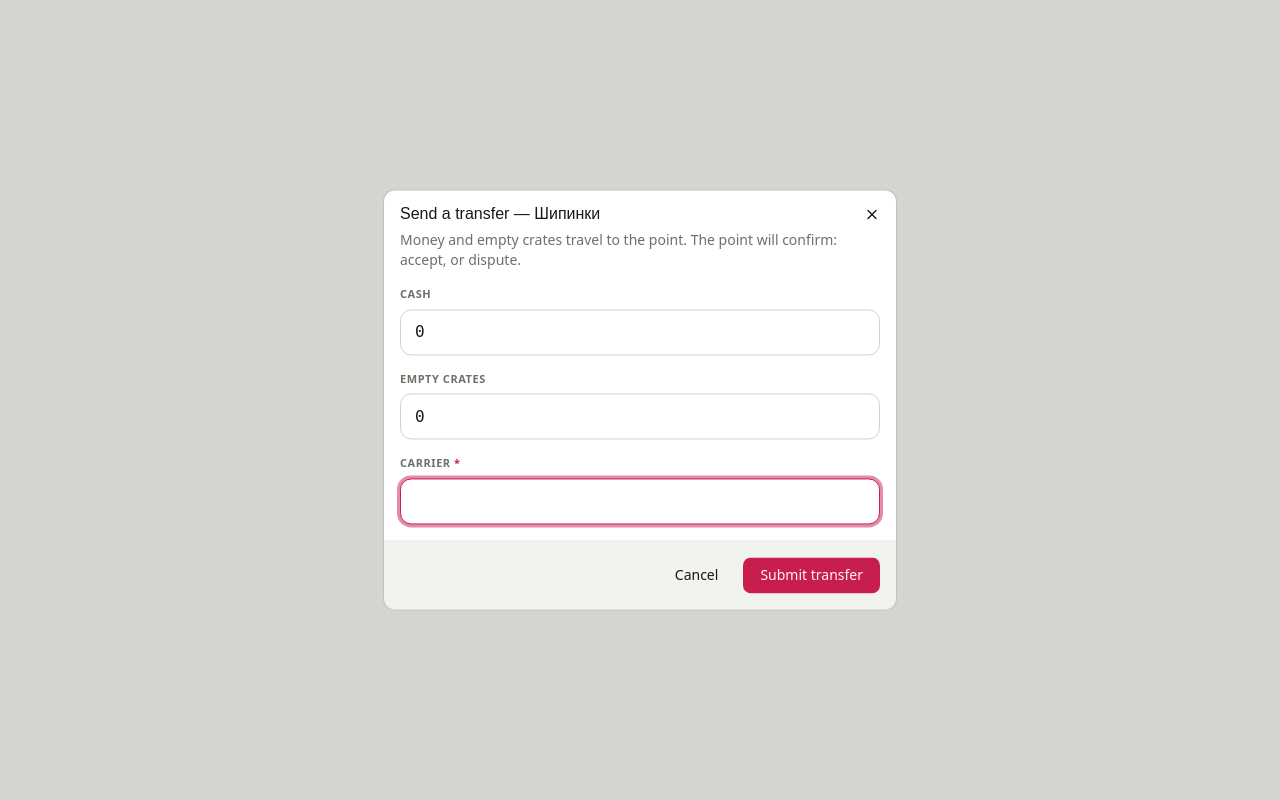
Test: the shared money field (#72) › never holds a space and refuses a half-typed sum with the shared message
The image size is (1280, 800).
Replace the text in the field labelled "Cash" with "980 40" at (640, 332), box [400, 309, 880, 355]
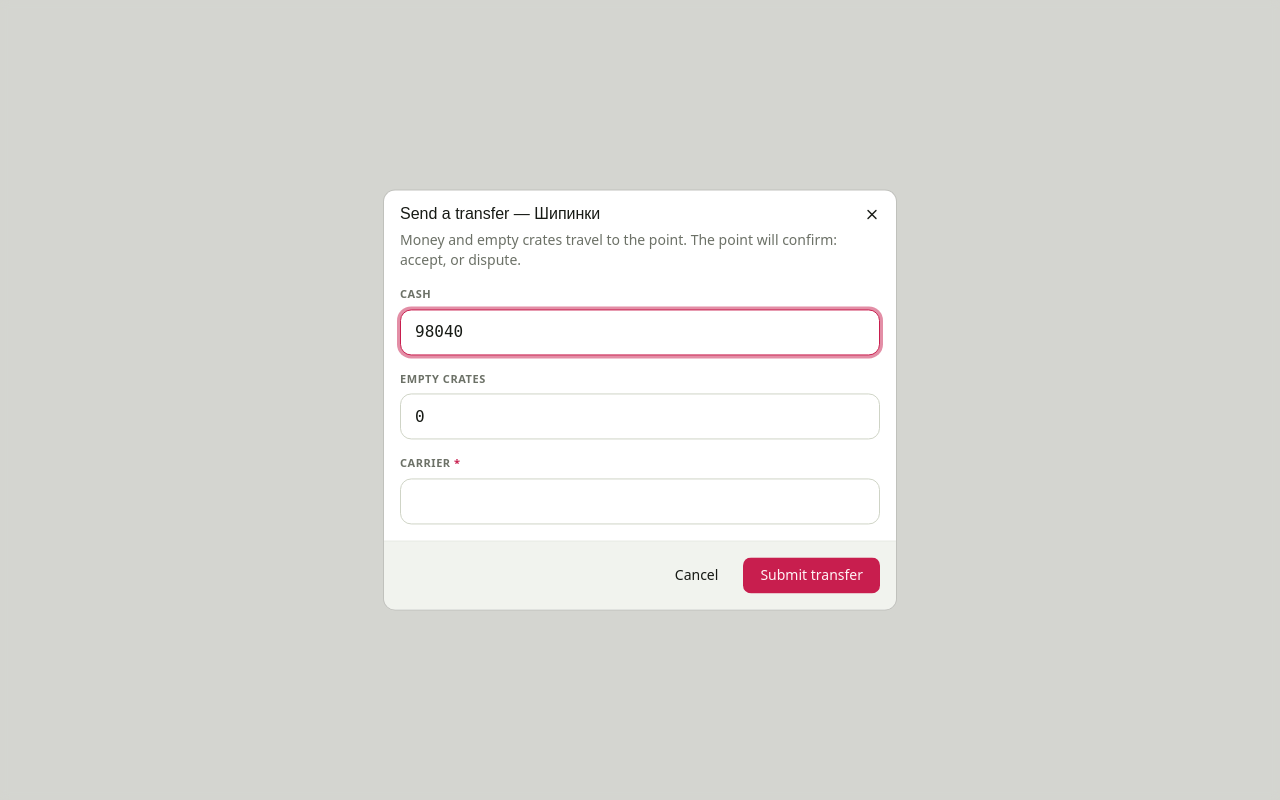
Check: the field labelled "Cash" holds "98040"
Replace the text in the field labelled "Cash" with "12." at (640, 332), box [400, 309, 880, 355]
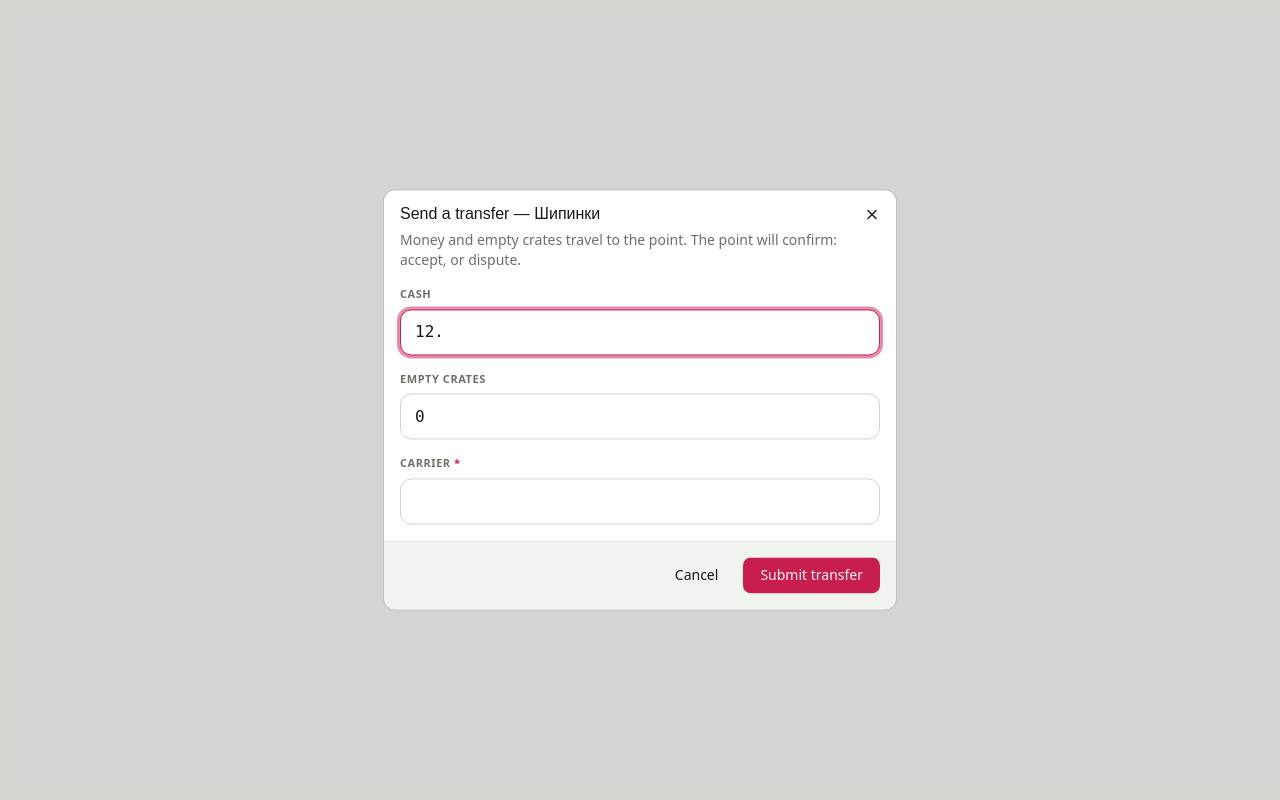
Click the button "Submit transfer" at (812, 576), box [743, 558, 880, 594]
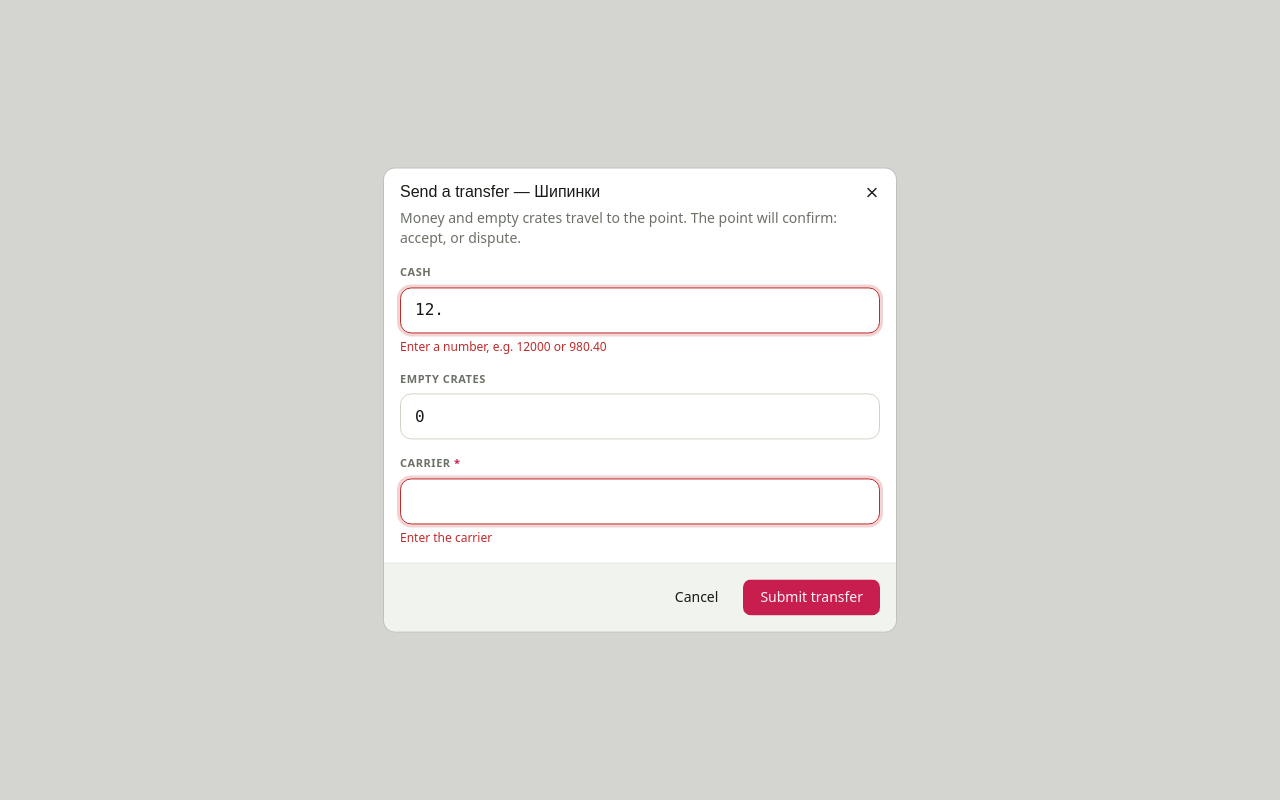
Check: the text "Enter a number, e.g. 12000 or 980.40" is shown, box [400, 338, 607, 355]
